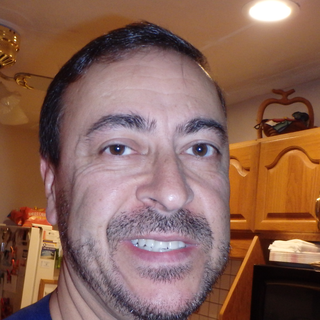eye: (94, 138, 141, 162), (179, 138, 222, 162)
